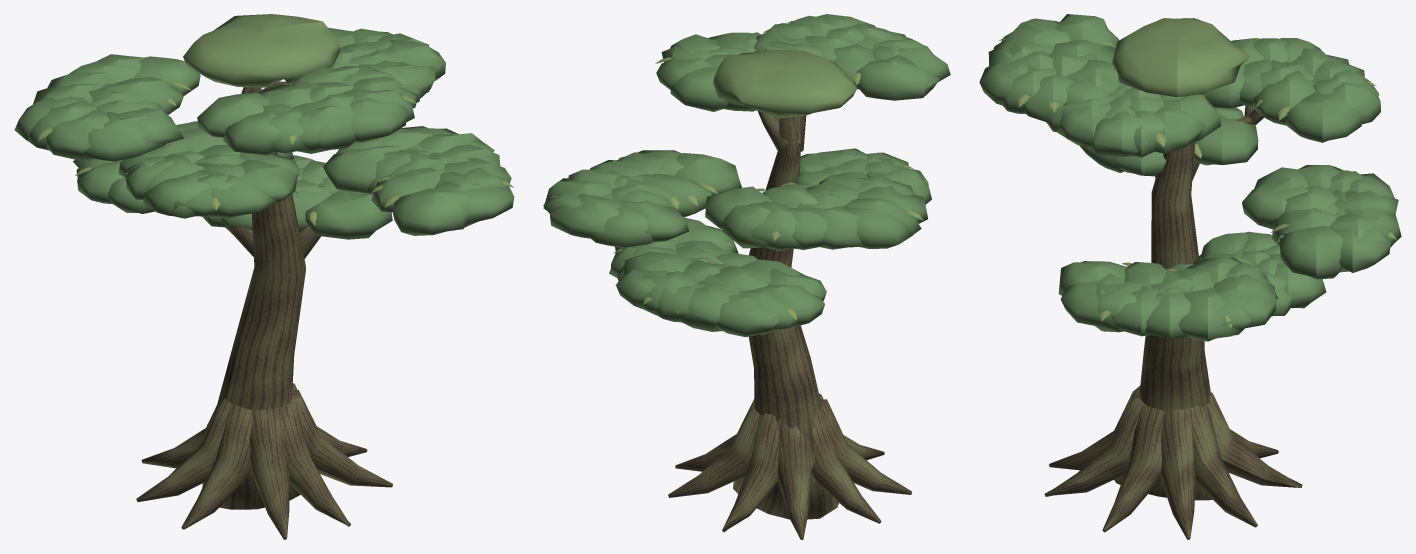
The model's file is tree.glb.
3 views of the same model, side by side, from view 1: azimuth 30°, elevation 25°; view 2: azimuth 150°, elevation 25°; view 3: azimuth 270°, elevation 25° (orthographic). The views are drawn at different scales.
Visible parts, largest first — view 1: foliage, wood; view 2: foliage, wood; view 3: foliage, wood.
Boxes of the visible parts, x1,y1,x2,y2 form: foliage: (14, 14, 514, 239); wood: (136, 81, 392, 539); foliage: (543, 14, 950, 337); wood: (668, 111, 911, 539); foliage: (979, 14, 1401, 341); wood: (1044, 105, 1302, 539).
Size of the model in its own units: 5.81 by 6.07 by 5.07.
2 materials, 1 textured.
